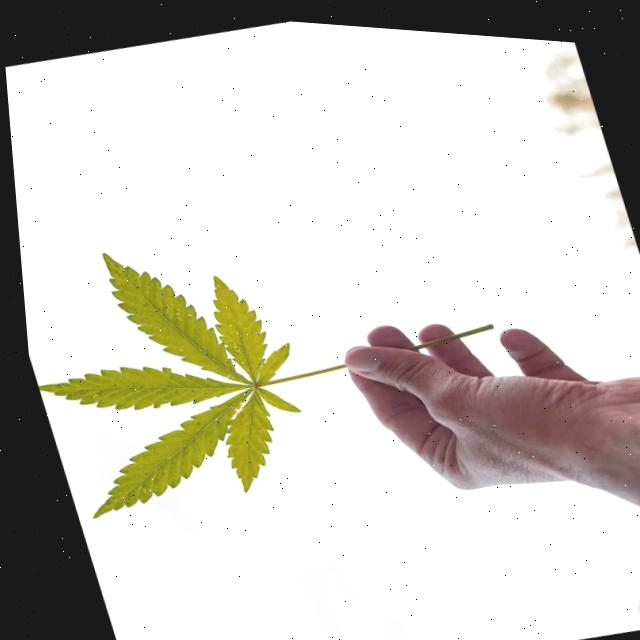cannabis: (37, 251, 348, 517), (408, 322, 493, 351)
